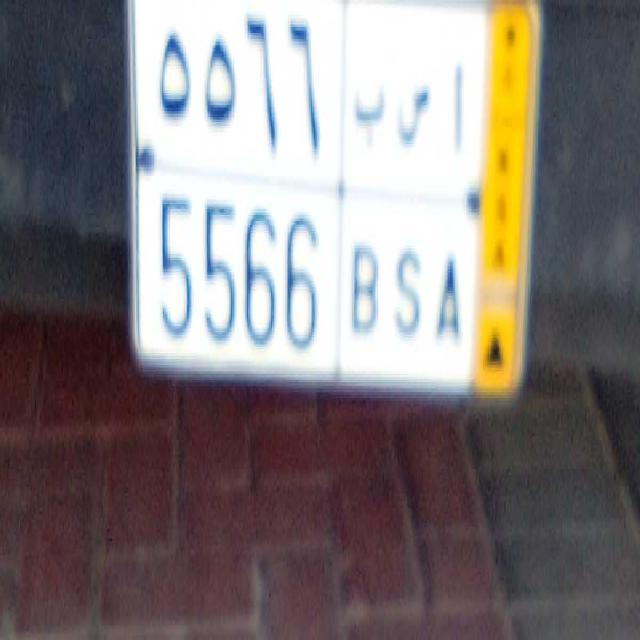license_plate: (145, 161, 468, 370)
